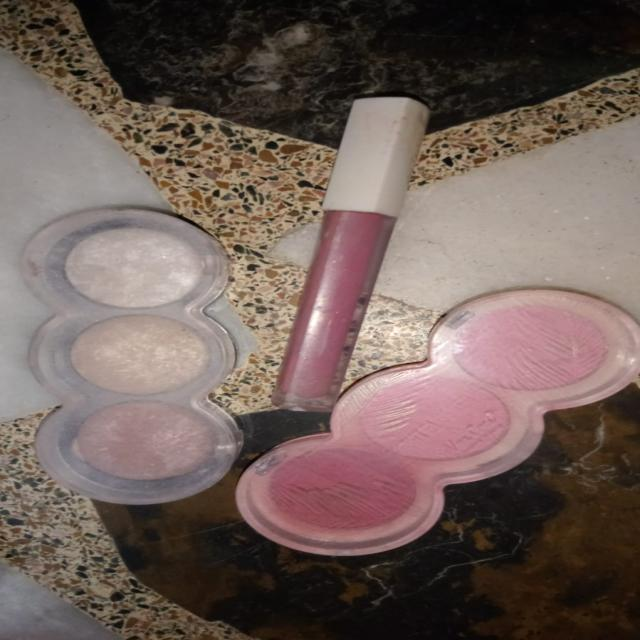blush: (231, 271, 640, 569)
highlighter: (18, 191, 258, 503)
lip gloss: (245, 79, 457, 416)
